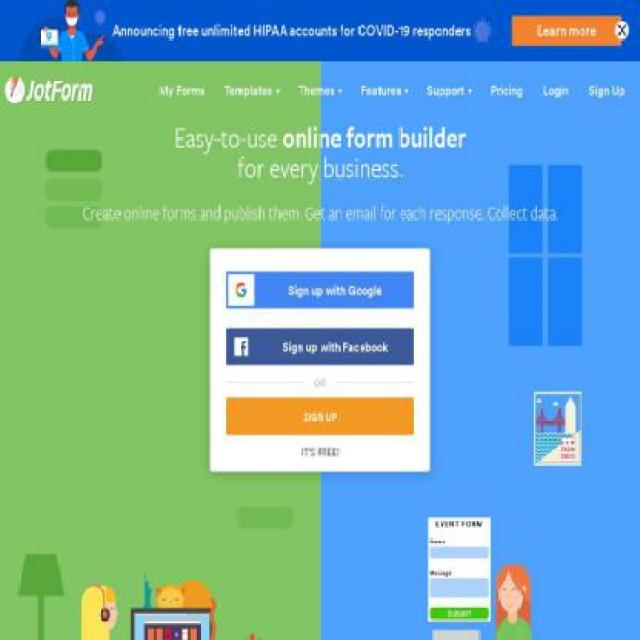button: (226, 270, 414, 308), (226, 327, 414, 365), (226, 397, 414, 435), (214, 68, 289, 114), (512, 16, 622, 46), (350, 68, 418, 114), (148, 68, 214, 114), (416, 68, 481, 114), (288, 68, 352, 114), (578, 68, 636, 114), (481, 68, 533, 114), (534, 68, 578, 114)
